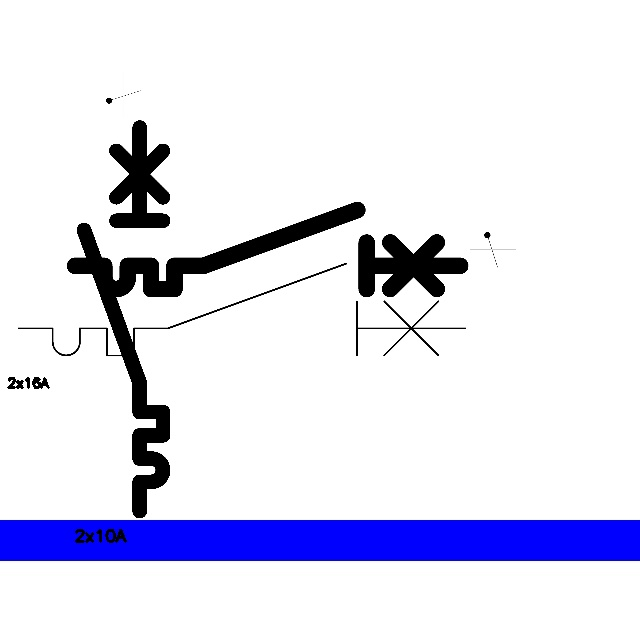interruptor_termomagnetico: (7, 252, 477, 367), (65, 200, 470, 299), (74, 117, 173, 520)
